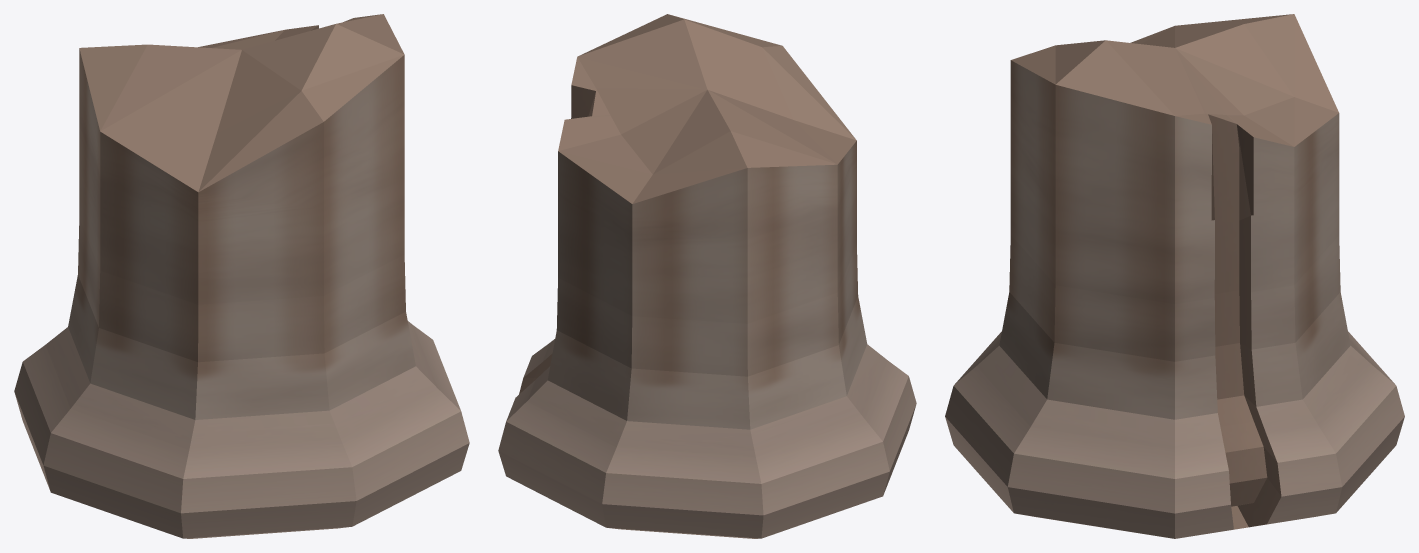
The model's file is F_Column_3.fbx.
3 renders of one model, left to right at view 1: azimuth 30°, elevation 25°; view 2: azimuth 150°, elevation 25°; view 3: azimuth 270°, elevation 25°, orthographic. The views are drawn at different scales.
Parts seen in each view (by area): view 1: F_Column_3; view 2: F_Column_3; view 3: F_Column_3.
Boxes of the visible parts, left/top/right/bottom form: F_Column_3: left=14, top=14, right=469, bottom=538; F_Column_3: left=498, top=14, right=916, bottom=538; F_Column_3: left=945, top=14, right=1404, bottom=538.
Bounding box in the file's own units: 2.57 × 2.76 × 2.57.
Materials: 1 (1 with a texture image).
